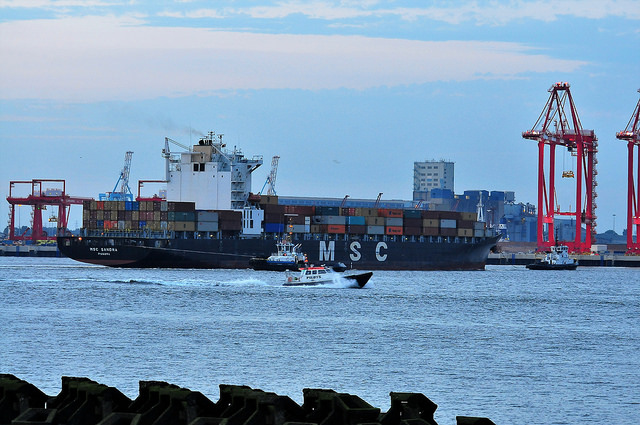boat: (280, 260, 375, 292)
container_ship: (52, 124, 498, 279)
tug_boat: (244, 227, 313, 269), (522, 246, 591, 273)
